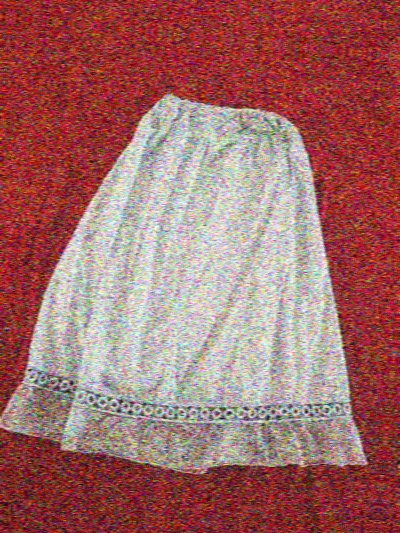Dress: (0, 74, 400, 528), (395, 116, 400, 533), (35, 0, 400, 3)
